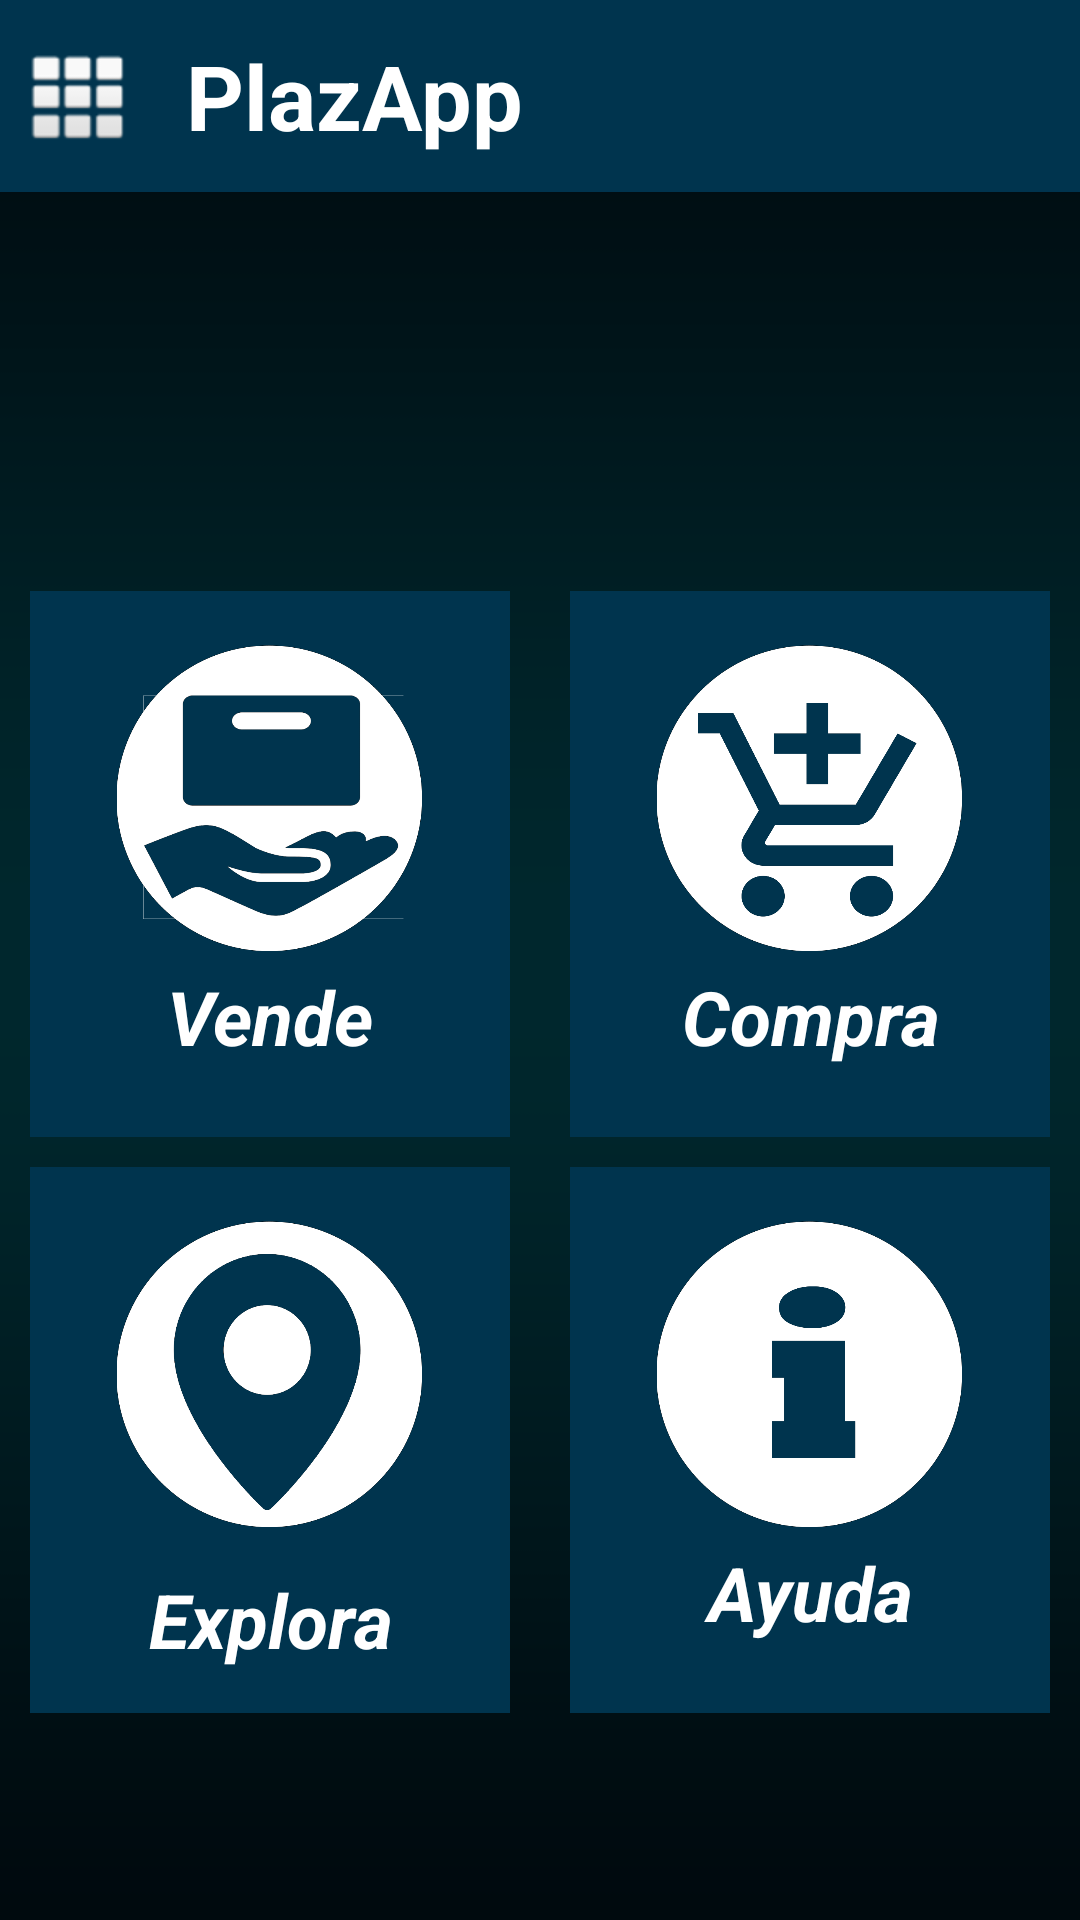

Screen size 1080×1920. Icon name, then its box in pixels as bbox=[x1, y1, x2, y2]:
dialer: bbox=[31, 55, 124, 139]
info: bbox=[657, 1221, 962, 1527]
navigation: bbox=[117, 1221, 422, 1527]
